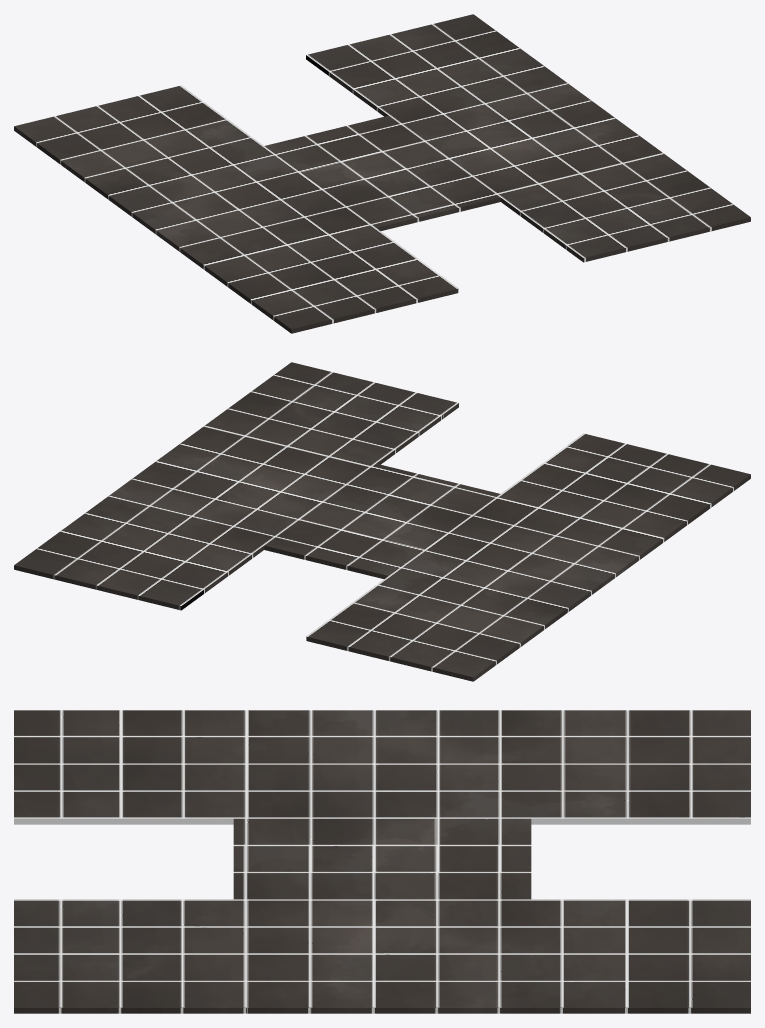
File: Floor (1).FBX
3 views of the same model, one above another, from view 1: azimuth 30°, elevation 25°; view 2: azimuth 150°, elevation 25°; view 3: azimuth 270°, elevation 25° (orthographic). The views are drawn at different scales.
Parts seen in each view (by area): view 1: Ground; view 2: Ground; view 3: Ground.
Part boxes in pixels (x1=…): Ground: x1=14, y1=14, x2=750, y2=333; Ground: x1=14, y1=362, x2=750, y2=681; Ground: x1=14, y1=710, x2=750, y2=1013.
Size of the model in its own units: 18.77 by 0.1715 by 19.63.
